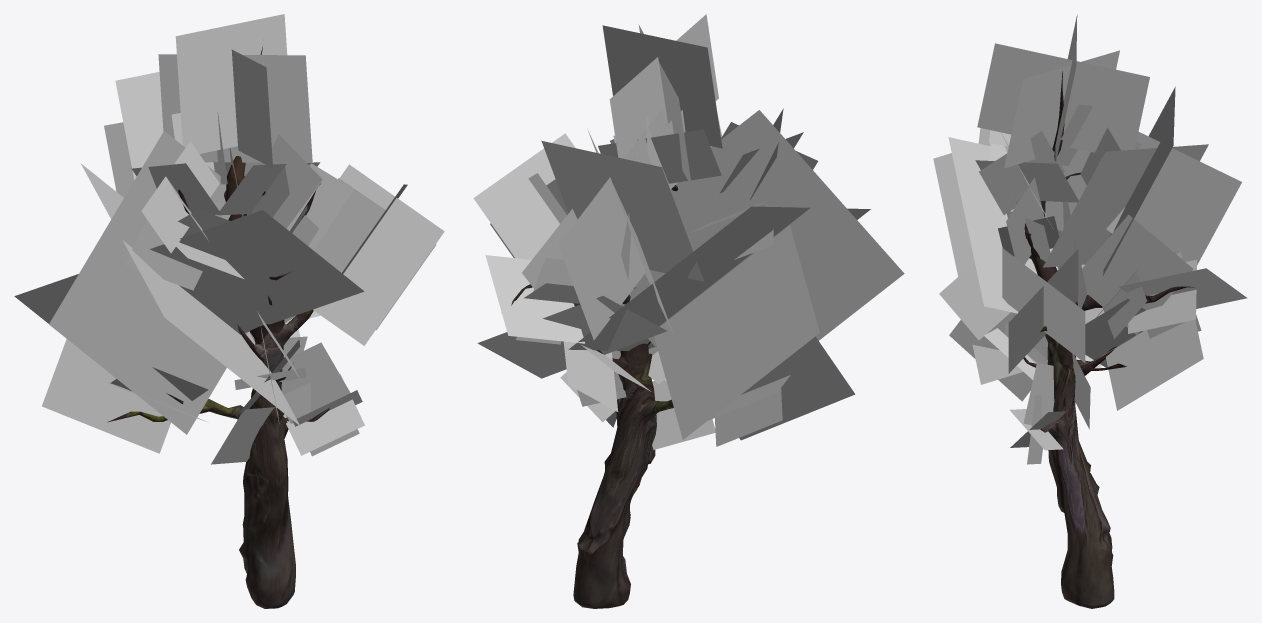
File: tree_birch.fbx
The picture shows the model from 3 angles, left to right: view 1: azimuth 30°, elevation 25°; view 2: azimuth 150°, elevation 25°; view 3: azimuth 270°, elevation 25°; orthographic projection. The views are drawn at different scales.
Parts seen in each view (by area): view 1: Mesh (3), Group52656; view 2: Mesh (3), Group52656; view 3: Mesh (3), Group52656.
Part boxes in pixels (bbox=[...]): Mesh (3): bbox=[14, 14, 444, 464]; Group52656: bbox=[107, 46, 329, 608]; Mesh (3): bbox=[473, 14, 904, 449]; Group52656: bbox=[511, 185, 678, 608]; Mesh (3): bbox=[933, 14, 1247, 464]; Group52656: bbox=[1016, 71, 1194, 608].
Bounding box in the file's own units: 1301 × 1811 × 950.
